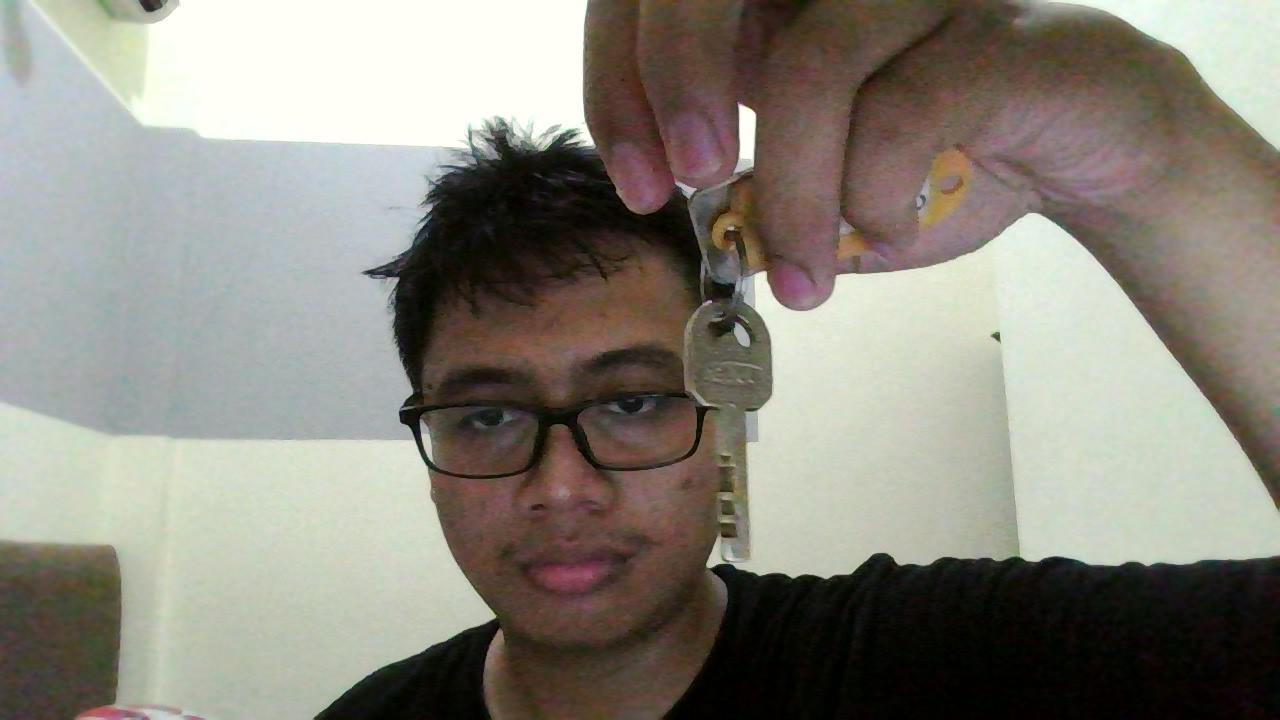keys: (668, 290, 771, 577)
